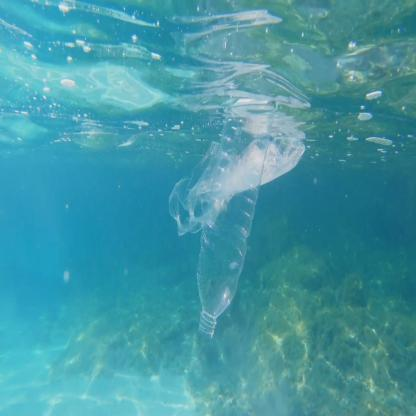Rác: (172, 100, 292, 341)
